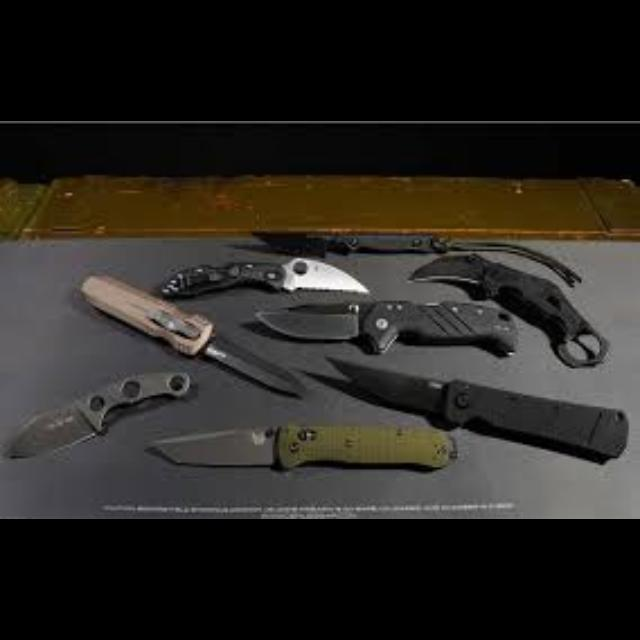Knife: (316, 353, 628, 465), (80, 272, 306, 400), (408, 252, 608, 366), (250, 229, 582, 287), (2, 369, 190, 459), (252, 299, 518, 357), (144, 424, 458, 471), (160, 254, 370, 298)
